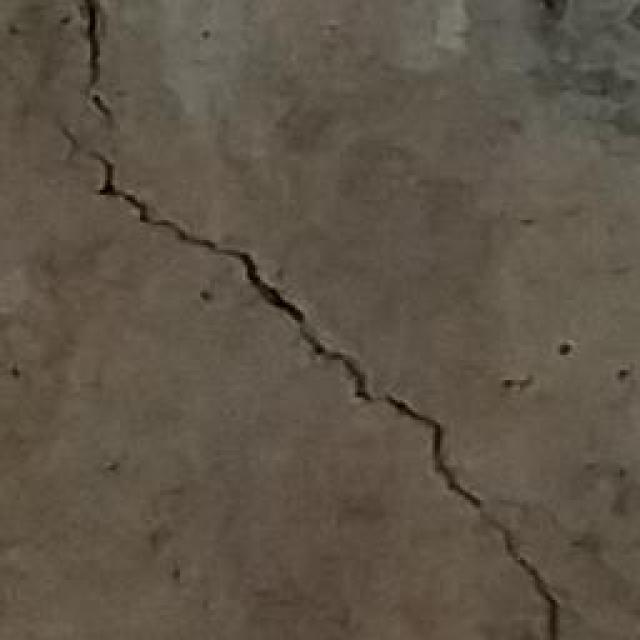Diagonal: (46, 0, 574, 640)
